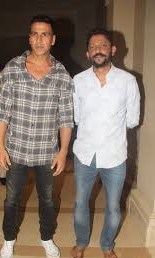Bad: (1, 14, 141, 258)
